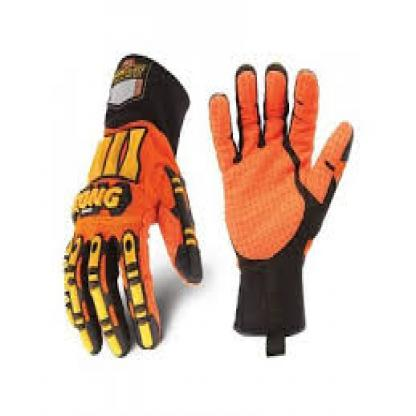with_gloves: (63, 52, 204, 358), (208, 62, 354, 343)
